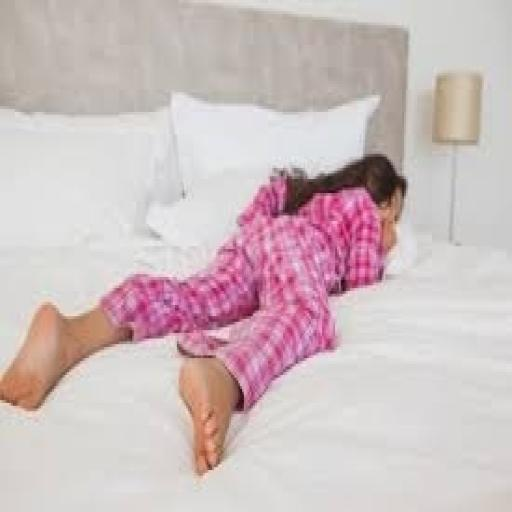sleeping: (0, 146, 410, 478)
